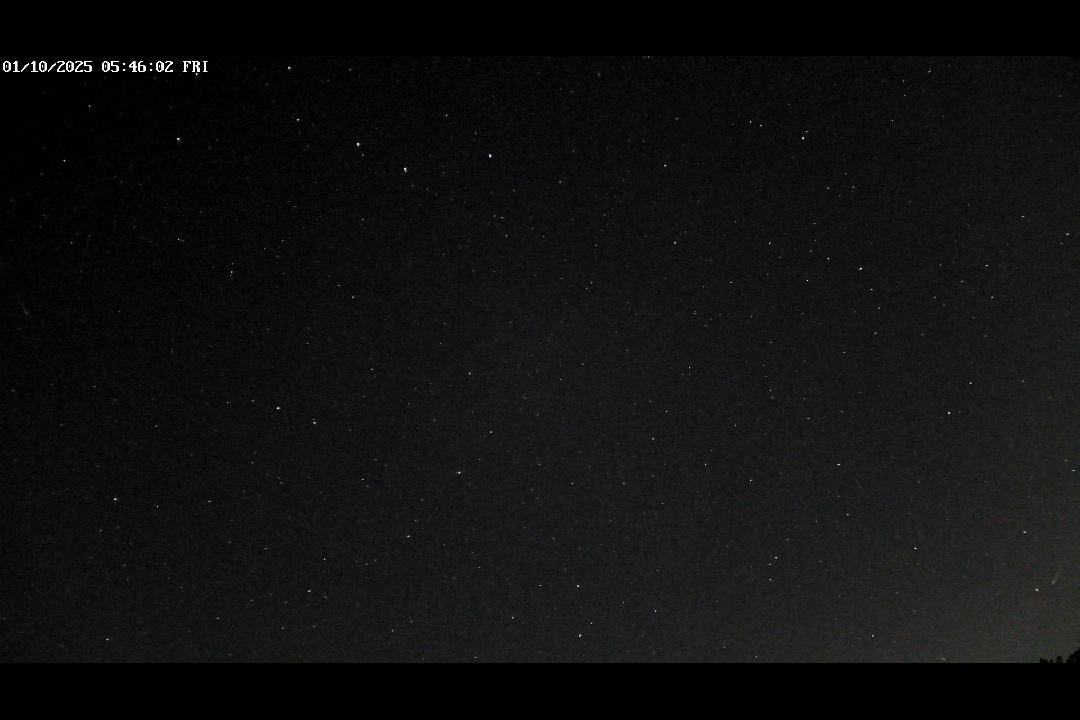Plane: (78, 229, 96, 262), (14, 297, 34, 318), (1049, 562, 1064, 589)
